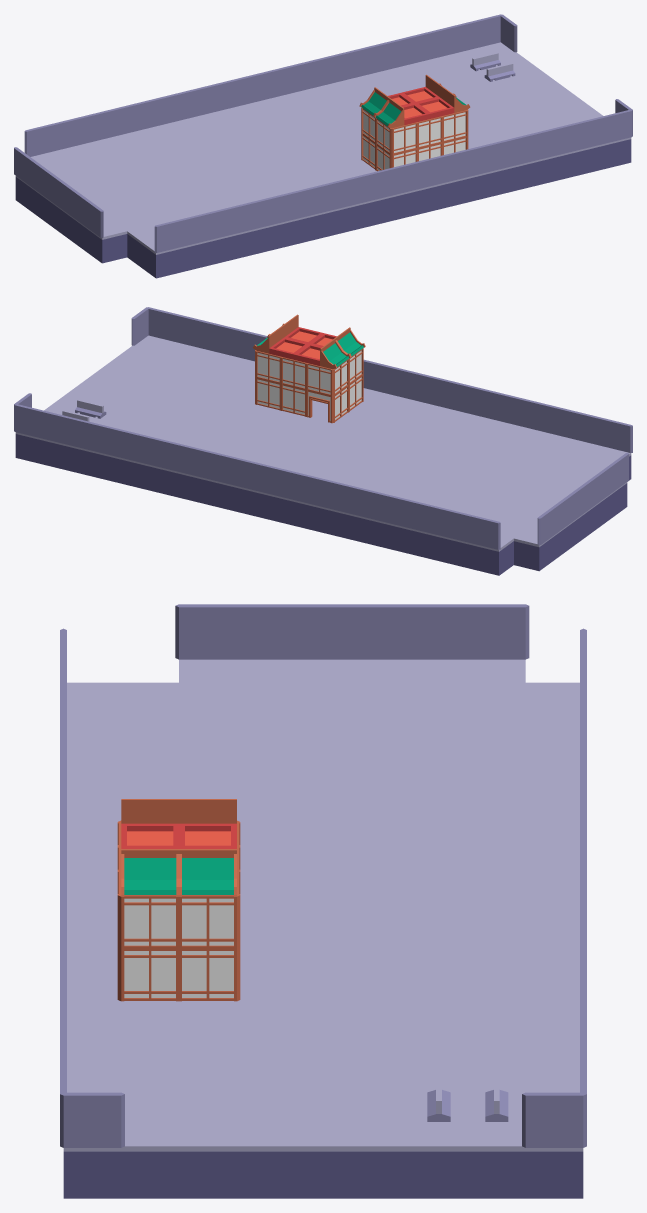
3 views of the same model, one above another, from view 1: azimuth 30°, elevation 25°; view 2: azimuth 150°, elevation 25°; view 3: azimuth 270°, elevation 25° (orthographic). The views are drawn at different scales.
Parts seen in each view (by area): view 1: wall (×42), floor (×48), wall_eastAsianWall (×6), wall_corner (×2), roof_eastAsianHalf (×2), roof_flat (×2), detail_roadBlockSmall (×2); view 2: floor (×117), wall (×37), wall_eastAsianWall (×9), wall_corner (×2), roof_flat (×3), roof_eastAsianHalf (×2), wall_eastAsianDoorwayWide, detail_roadBlockSmall; view 3: floor (×158), wall (×6), wall_eastAsianWall (×4), roof_eastAsianHalf (×4), wall_corner (×2), roof_flat (×2), detail_roadBlockSmall (×2).
Part boxes in pixels (left/top/right/bottom): wall (×42): left=14, top=20, right=607, bottom=252; floor (×48): left=66, top=74, right=631, bottom=278; wall_eastAsianWall (×6): left=361, top=107, right=467, bottom=170; wall_corner (×2): left=475, top=14, right=632, bottom=142; roof_eastAsianHalf (×2): left=359, top=87, right=404, bottom=128; roof_flat (×2): left=402, top=97, right=454, bottom=125; detail_roadBlockSmall (×2): left=470, top=52, right=515, bottom=81; floor (×117): left=15, top=345, right=631, bottom=575; wall (×37): left=39, top=313, right=632, bottom=549; wall_eastAsianWall (×9): left=255, top=348, right=363, bottom=422; wall_corner (×2): left=14, top=307, right=172, bottom=437; roof_flat (×3): left=269, top=327, right=323, bottom=365; roof_eastAsianHalf (×2): left=320, top=327, right=365, bottom=369; wall_eastAsianDoorwayWide: left=306, top=390, right=334, bottom=423; detail_roadBlockSmall: left=75, top=399, right=106, bottom=418; floor (×158): left=63, top=659, right=583, bottom=1198; wall (×6): left=175, top=604, right=529, bottom=659; wall_eastAsianWall (×4): left=117, top=894, right=240, bottom=1001; roof_eastAsianHalf (×4): left=121, top=799, right=236, bottom=895; wall_corner (×2): left=60, top=1069, right=586, bottom=1147; roof_flat (×2): left=121, top=823, right=236, bottom=847; detail_roadBlockSmall (×2): left=427, top=1076, right=508, bottom=1121.
Size of the model in its own units: 20.13 by 3.65 by 9.13.
